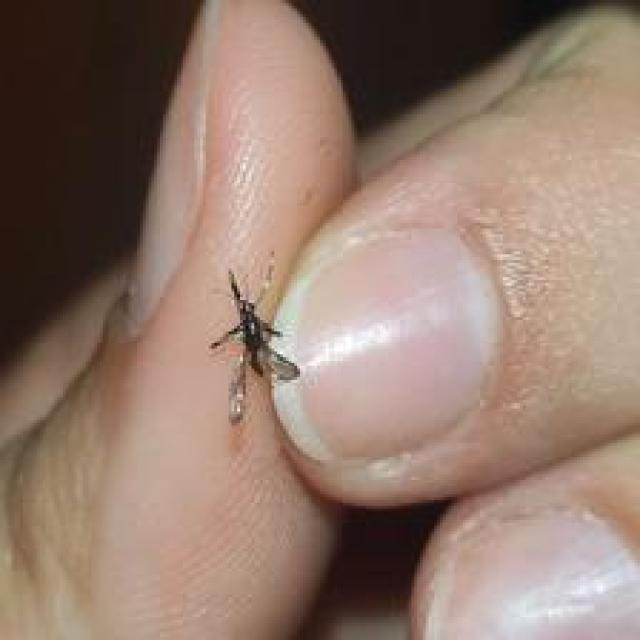Aedes albopictus: (207, 254, 302, 426)
